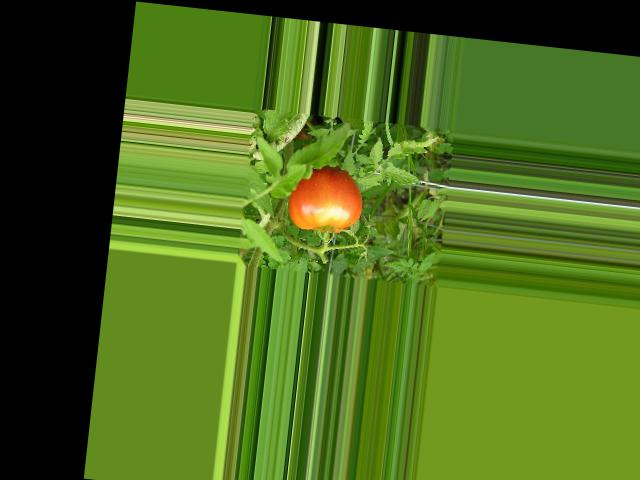tomato: (286, 163, 365, 236)
